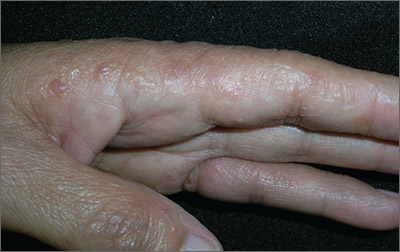Diseased: (58, 48, 337, 147)
